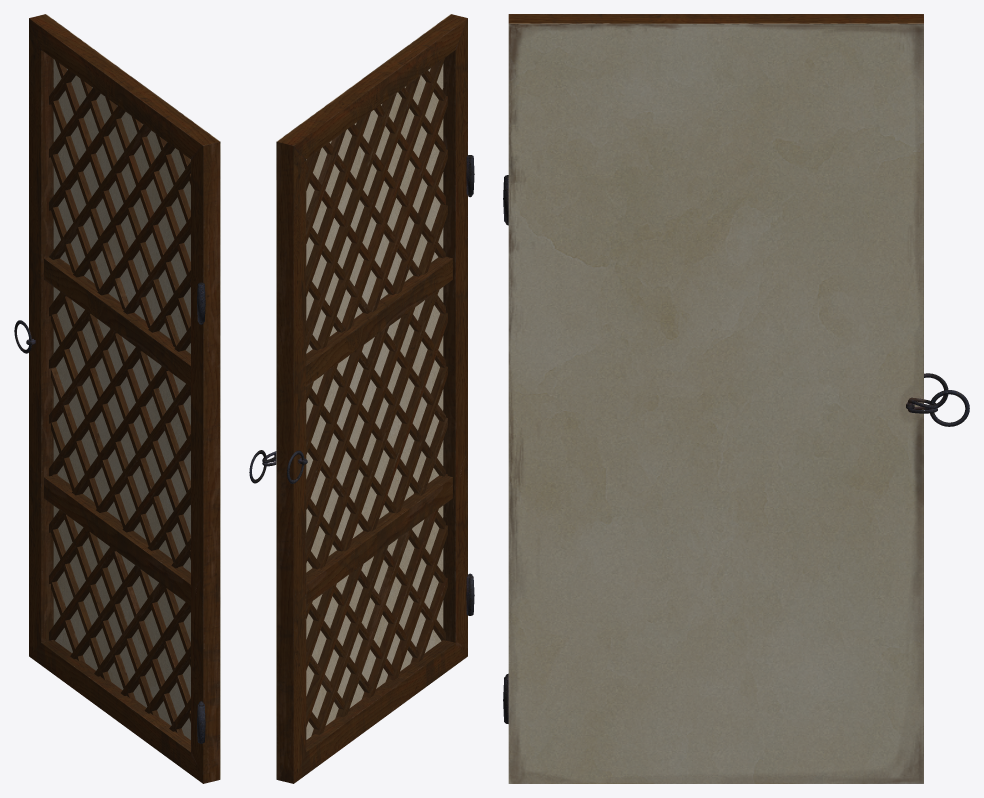
Rendered from SM_Door01e.fbx.
3 views of the same model, side by side, from view 1: azimuth 30°, elevation 25°; view 2: azimuth 150°, elevation 25°; view 3: azimuth 270°, elevation 25° (orthographic). The views are drawn at different scales.
Parts seen in each view (by area): view 1: SM_Door01e; view 2: SM_Door01e; view 3: SM_Door01e.
Boxes of the visible parts, bbox=[...] form: SM_Door01e: bbox=[14, 14, 220, 783]; SM_Door01e: bbox=[249, 14, 474, 783]; SM_Door01e: bbox=[503, 14, 969, 783].
Size of the model in its own units: 8.08 by 141 by 78.64.
Materials: 1 (1 with a texture image).
